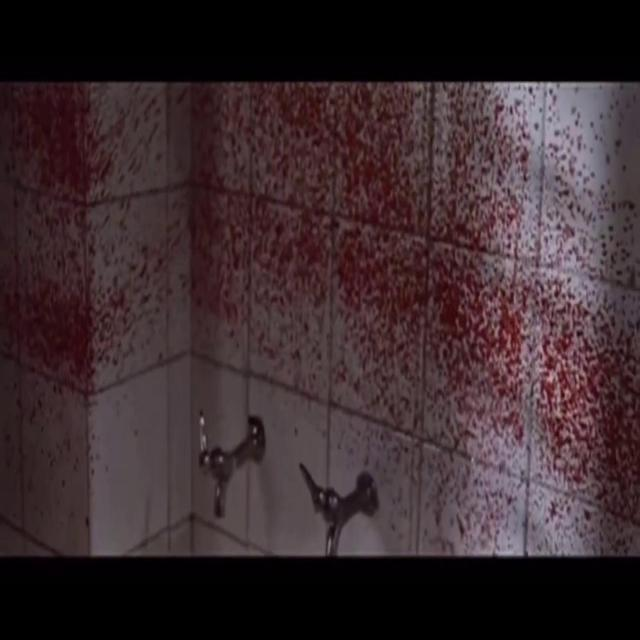flood: (1, 82, 636, 462)
